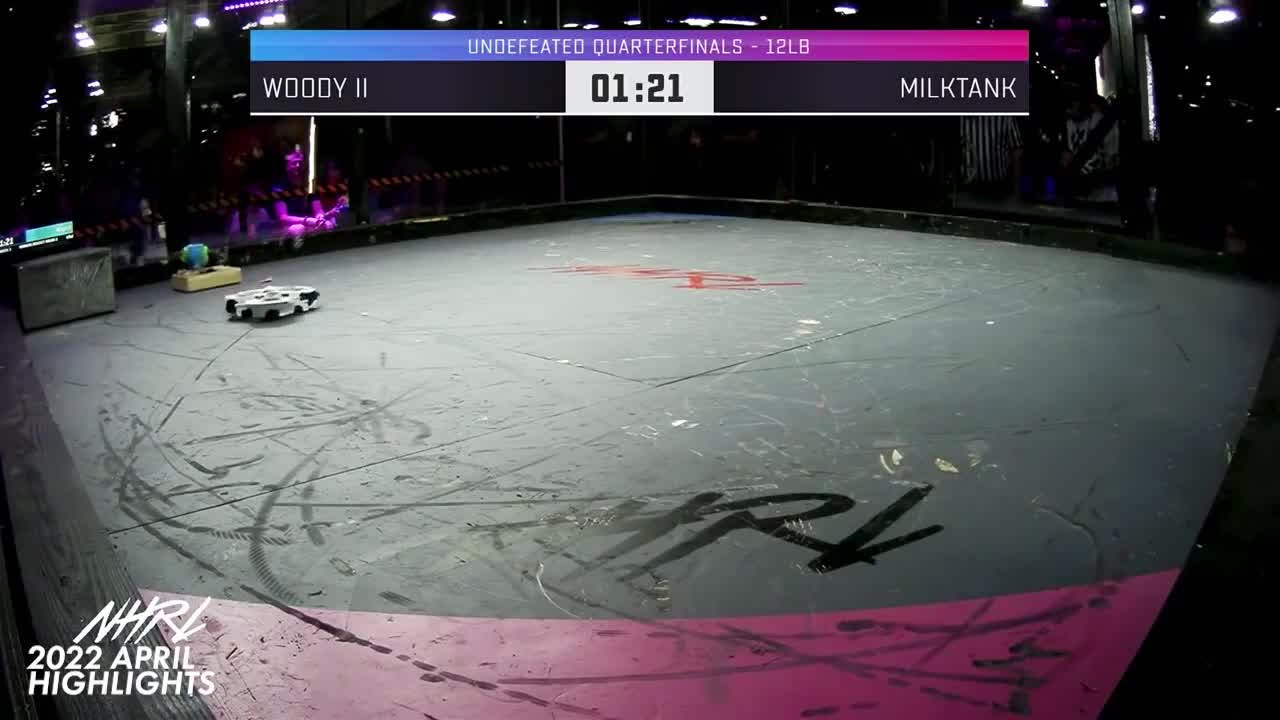combatbot: (222, 284, 323, 324), (169, 244, 243, 293)
housebot: (9, 246, 119, 333)
